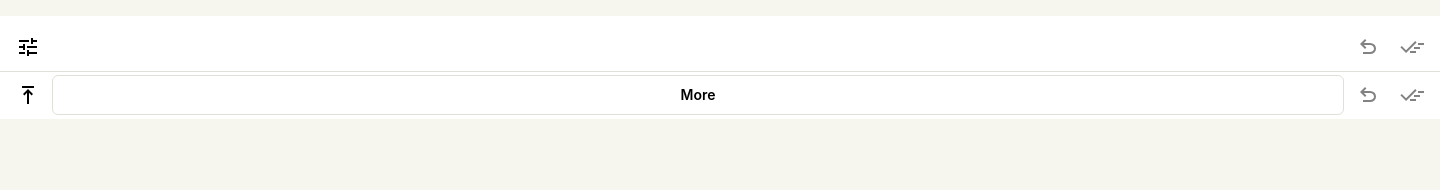
<HotStoryList> › a More tap chases past a page whose only hot row is marked done
Check: the text "page-0-hot" is shown, box left=12, top=22, right=100, bottom=42
Check: the text "page-2-hot" is not shown
Click the button "More": (698, 95) left=52, top=75, right=1344, bottom=115
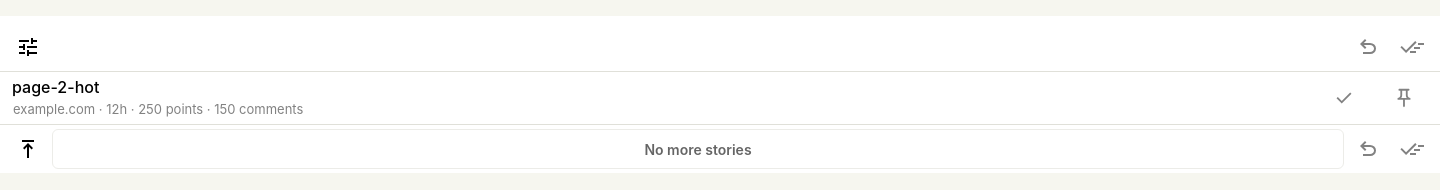
Check: the text "page-0-hot" is shown, box left=12, top=22, right=100, bottom=42
Check: the text "page-2-hot" is shown, box left=12, top=77, right=99, bottom=97
